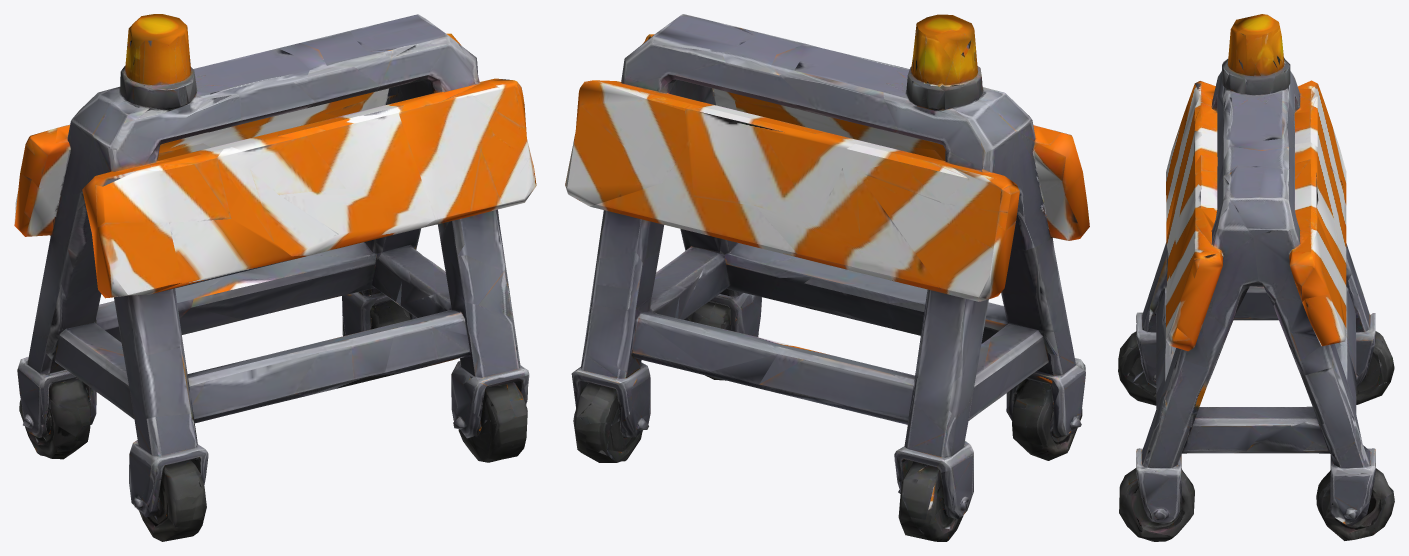
The model's file is runner-barrier-ai.glb.
3 renders of one model, left to right at view 1: azimuth 30°, elevation 25°; view 2: azimuth 150°, elevation 25°; view 3: azimuth 270°, elevation 25°, orthographic. The views are drawn at different scales.
Size of the model in its own units: 1.84 by 1.9 by 1.19.
Materials: 1 (1 with a texture image).
